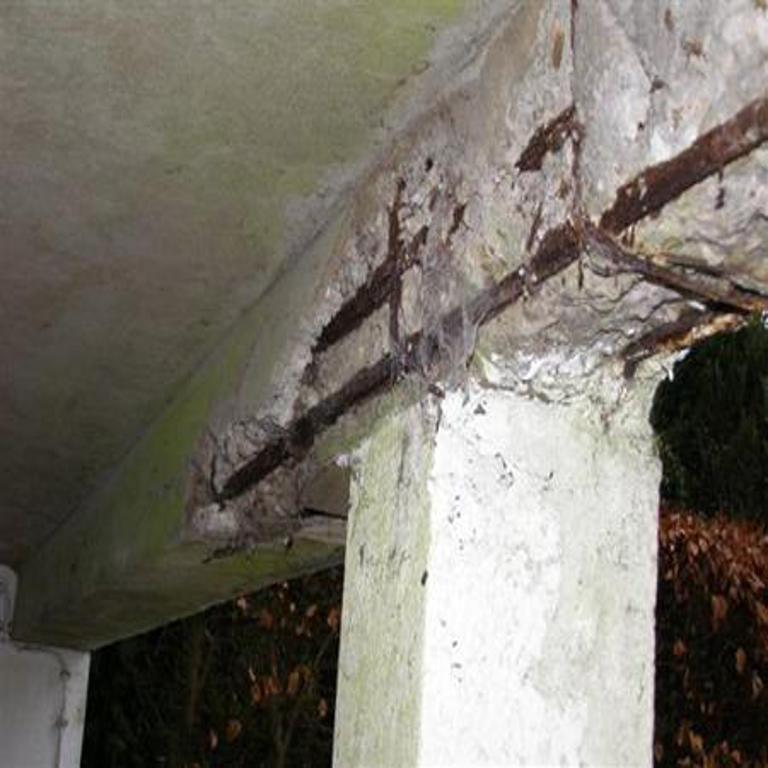damage: (192, 0, 768, 548)
